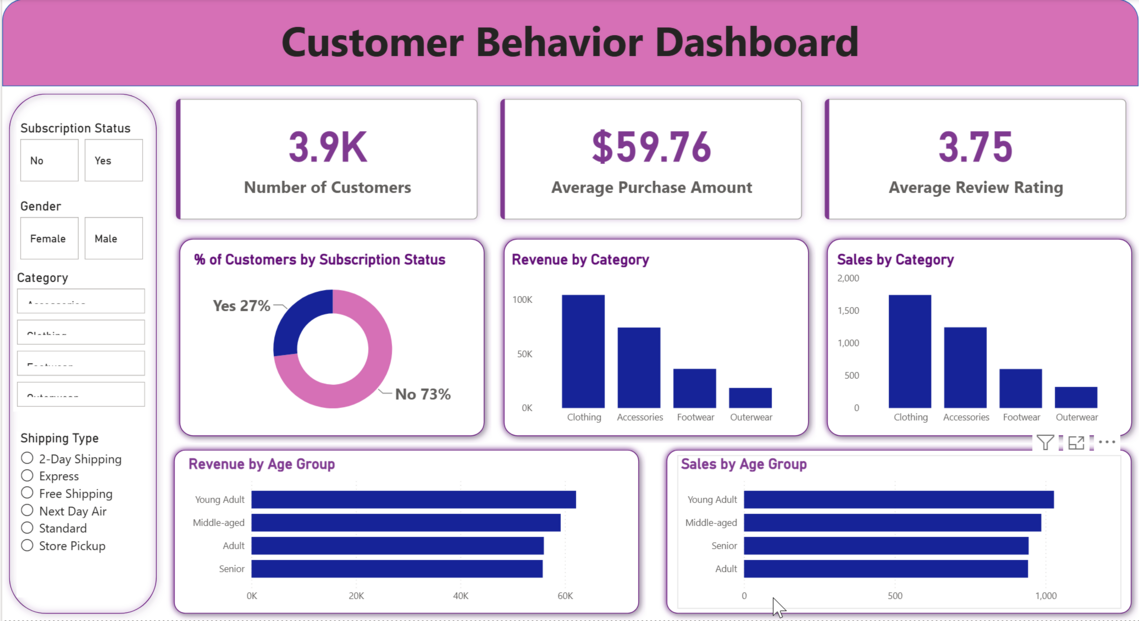

This screenshot's page, from the dashboard's own definition file:
{"tool":"powerbi","page":{"name":"Page 1","canvas":[1280,720],"ordinal":0},"visuals":[{"type":"shape","box":[0,0,1280,100.8],"z":0},{"type":"textbox","box":[142.8,0,970.9,100.8],"z":1000},{"type":"cardVisual","fields":{"Data":["CountNonNull(customer_shopping_behavior.Customer ID)","customer_shopping_behavior.Average Purchase Amount","customer_shopping_behavior.Average Review Rating"]},"box":[160.3,100,1119,198.3],"z":2000},{"type":"shape","box":[881.9,280.5,386.4,243.6],"z":3000},{"type":"clusteredColumnChart","title":"Sales by category","fields":{"Y":["CountNonNull(customer_shopping_behavior.Customer ID)"],"Category":["customer_shopping_behavior.Category"]},"box":[903.7,299,364.5,213.3],"z":4000},{"type":"shape","box":[495.5,280.5,386.4,243.6],"z":5000},{"type":"clusteredColumnChart","title":"Revenue by category","fields":{"Category":["customer_shopping_behavior.Category"],"Y":["Sum(customer_shopping_behavior.Purchase Amount (USD))"]},"box":[514,294,389.7,225.1],"z":6000},{"type":"shape","box":[174.7,280.5,320.8,243.6],"z":7000},{"type":"donutChart","title":"% of Customers by Subscripition status","fields":{"Category":["customer_shopping_behavior.Subscription Status"],"Y":["CountNonNull(customer_shopping_behavior.Customer ID)"]},"box":[191.5,294,304,225.1],"z":8000},{"type":"shape","box":[11.8,114.2,162.9,594.6],"z":9000},{"type":"shape","box":[727.3,520.7,552.7,199.9],"z":10000},{"type":"clusteredBarChart","title":"Sales by Age  Group","fields":{"Category":["customer_shopping_trend_Cleaned_data (2).age-group"],"Y":["CountNonNull(customer_shopping_trend_Cleaned_data (2).customer_id)"]},"box":[750.9,540.9,529.1,168],"z":11000},{"type":"shape","box":[174.7,520.7,552.7,199.9],"z":11001},{"type":"clusteredBarChart","title":"Revenue by Age Group","fields":{"Category":["customer_shopping_trend_Cleaned_data (2).age-group"],"Y":["Sum(customer_shopping_trend_Cleaned_data (2).purchase_amount)"]},"box":[193.2,537.5,517.4,173],"z":11002},{"type":"listSlicer","title":"Shipping Type","fields":{"Values":["customer_shopping_trend_Cleaned_data (2).shipping_type"]},"box":[26.9,507.3,132.7,213.3],"z":11003},{"type":"advancedSlicerVisual","title":"Category","fields":{"Values":["customer_shopping_trend_Cleaned_data (2).category"]},"box":[26.9,329.2,132.7,178.1],"z":11004},{"type":"advancedSlicerVisual","title":"Gender","fields":{"Values":["customer_shopping_trend_Cleaned_data (2).gender"]},"box":[26.9,248.6,132.7,79],"z":11005},{"type":"advancedSlicerVisual","title":"Subscription Status","fields":{"Values":["customer_shopping_trend_Cleaned_data (2).subscription_status"]},"box":[25.2,141.1,132.7,95.7],"z":11006}]}

Visuals, with their boxes on the page's 1280x720 design canvas (x1, y1, x2, y2). These are canvas units, not pixel positions in the 1139x621 screenshot, which may show the page scaled, cropped or inside an application window:
shape: [0,0,1280,101]
textbox: [143,0,1114,101]
cardVisual - CountNonNull(customer_shopping_behavior.Customer ID) x customer_shopping_behavior.Average Purchase Amount: [160,100,1279,298]
shape: [882,280,1268,524]
"Sales by category" clusteredColumnChart: [904,299,1268,512]
shape: [496,280,882,524]
"Revenue by category" clusteredColumnChart: [514,294,904,519]
shape: [175,280,496,524]
"% of Customers by Subscripition status" donutChart: [192,294,496,519]
shape: [12,114,175,709]
shape: [727,521,1280,721]
"Sales by Age  Group" clusteredBarChart: [751,541,1280,709]
shape: [175,521,727,721]
"Revenue by Age Group" clusteredBarChart: [193,538,711,710]
"Shipping Type" listSlicer: [27,507,160,721]
"Category" advancedSlicerVisual: [27,329,160,507]
"Gender" advancedSlicerVisual: [27,249,160,328]
"Subscription Status" advancedSlicerVisual: [25,141,158,237]
